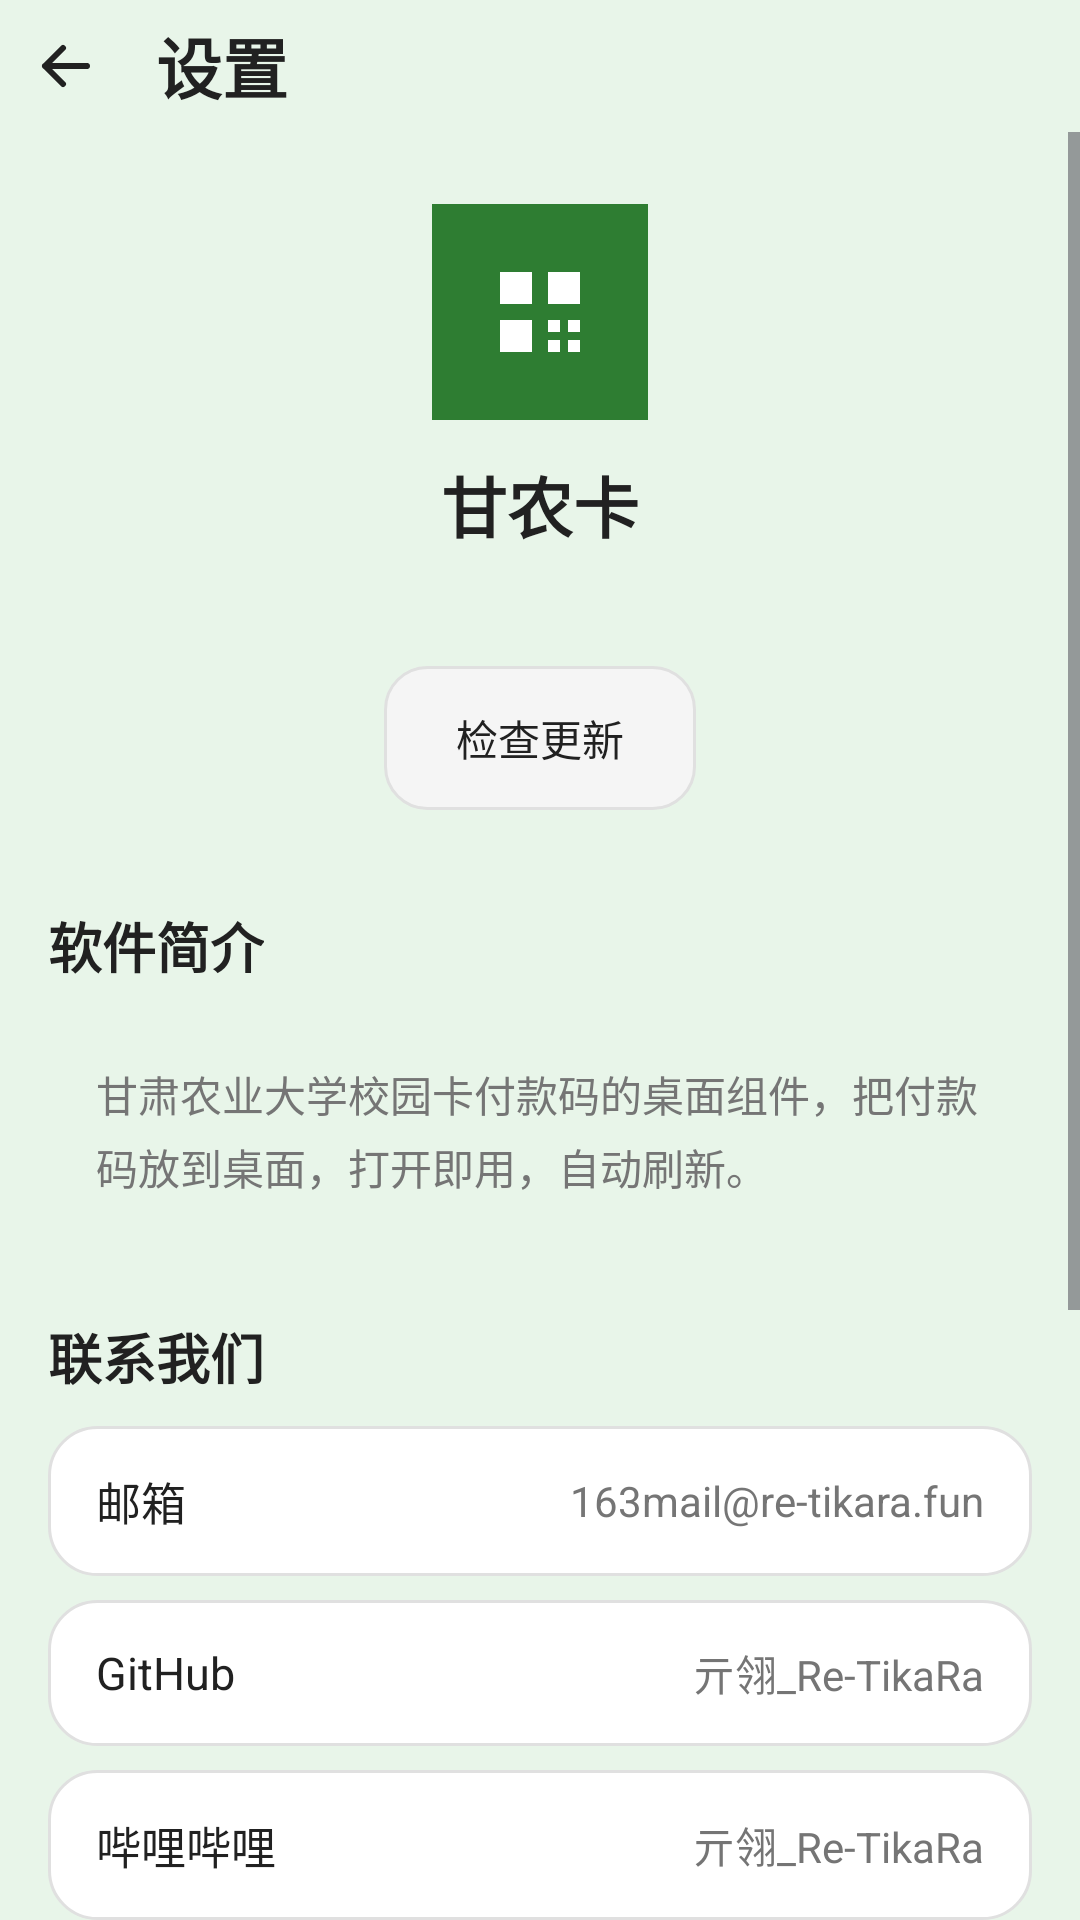

Screen size 1080px x 1920px. Icon name, then its center in pixels as (x,y):
返回主页: (66,66)
